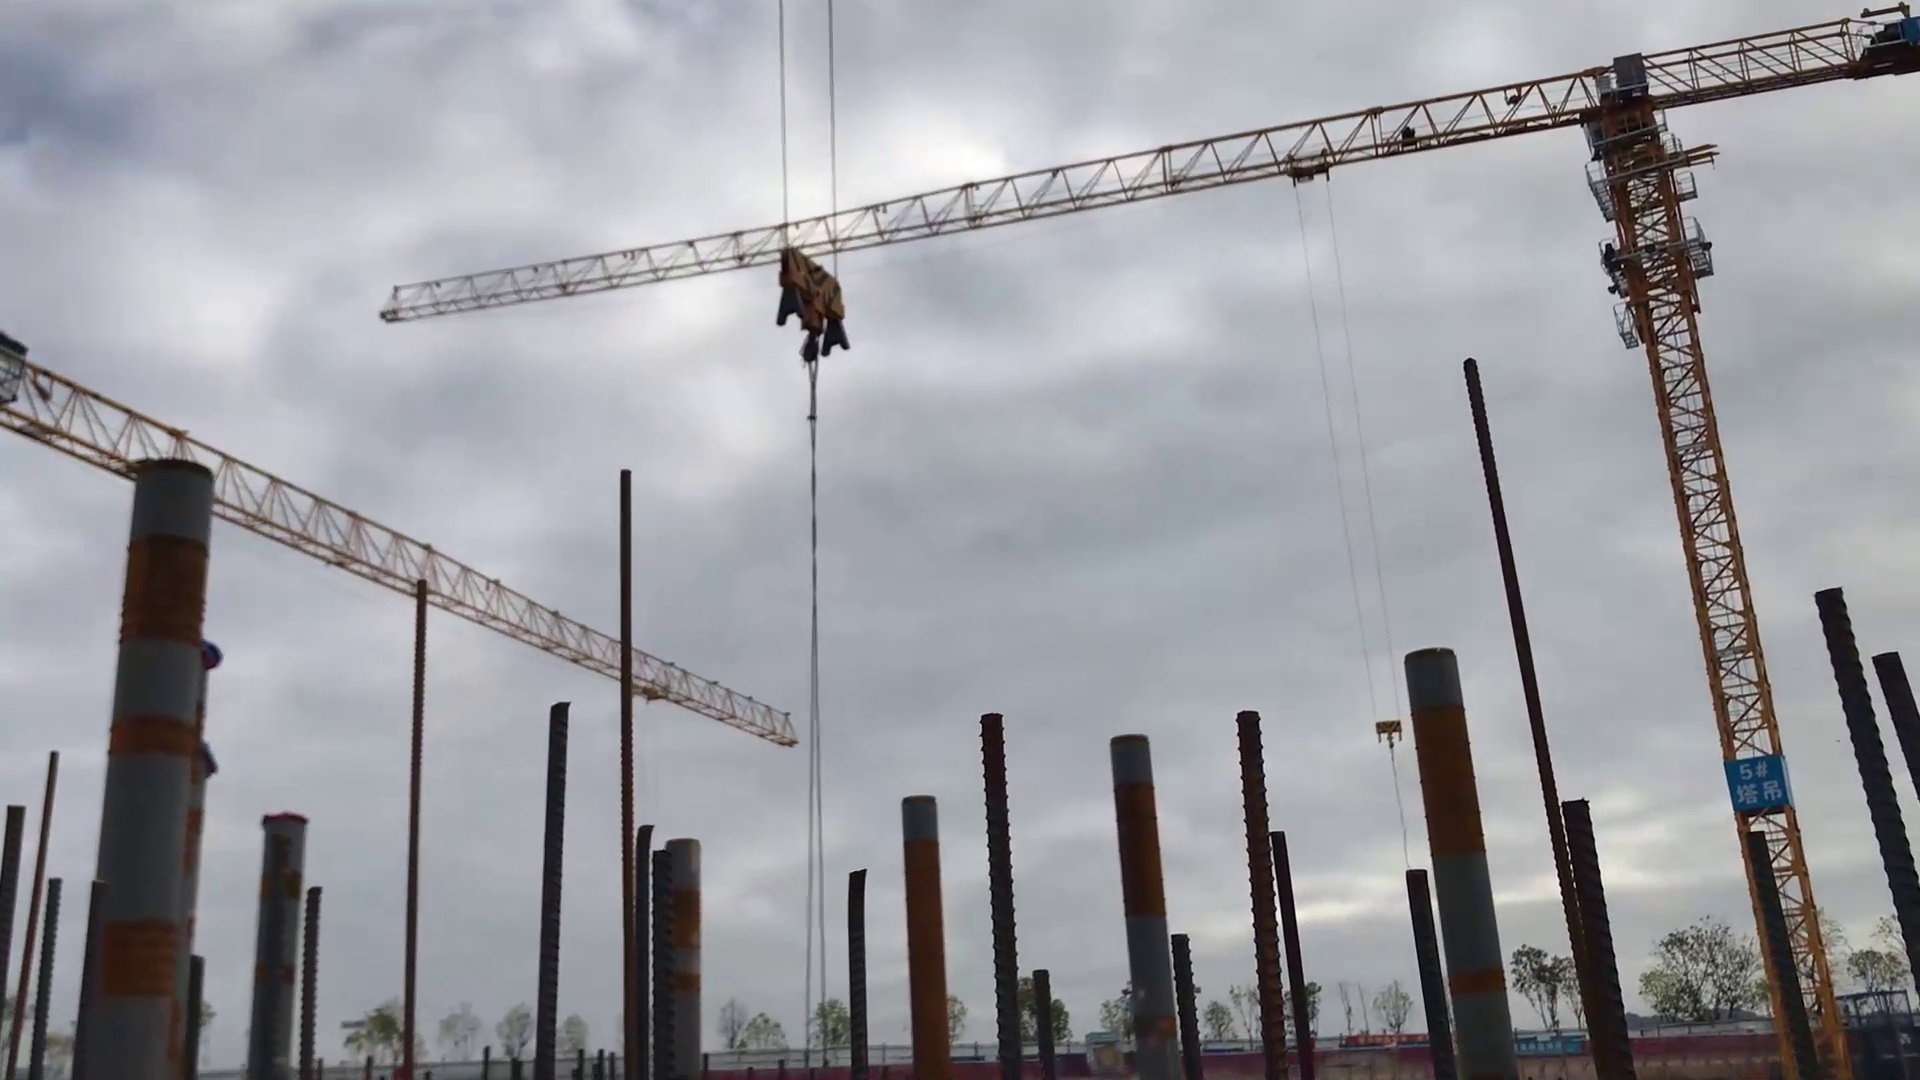fence: (1633, 997, 1753, 1065)
hook: (762, 240, 858, 367), (1371, 717, 1408, 752)
slogan: (1721, 744, 1813, 824), (1516, 1022, 1588, 1062)
